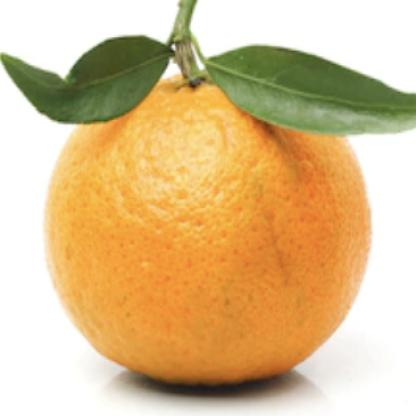fresh: (38, 28, 370, 396)
